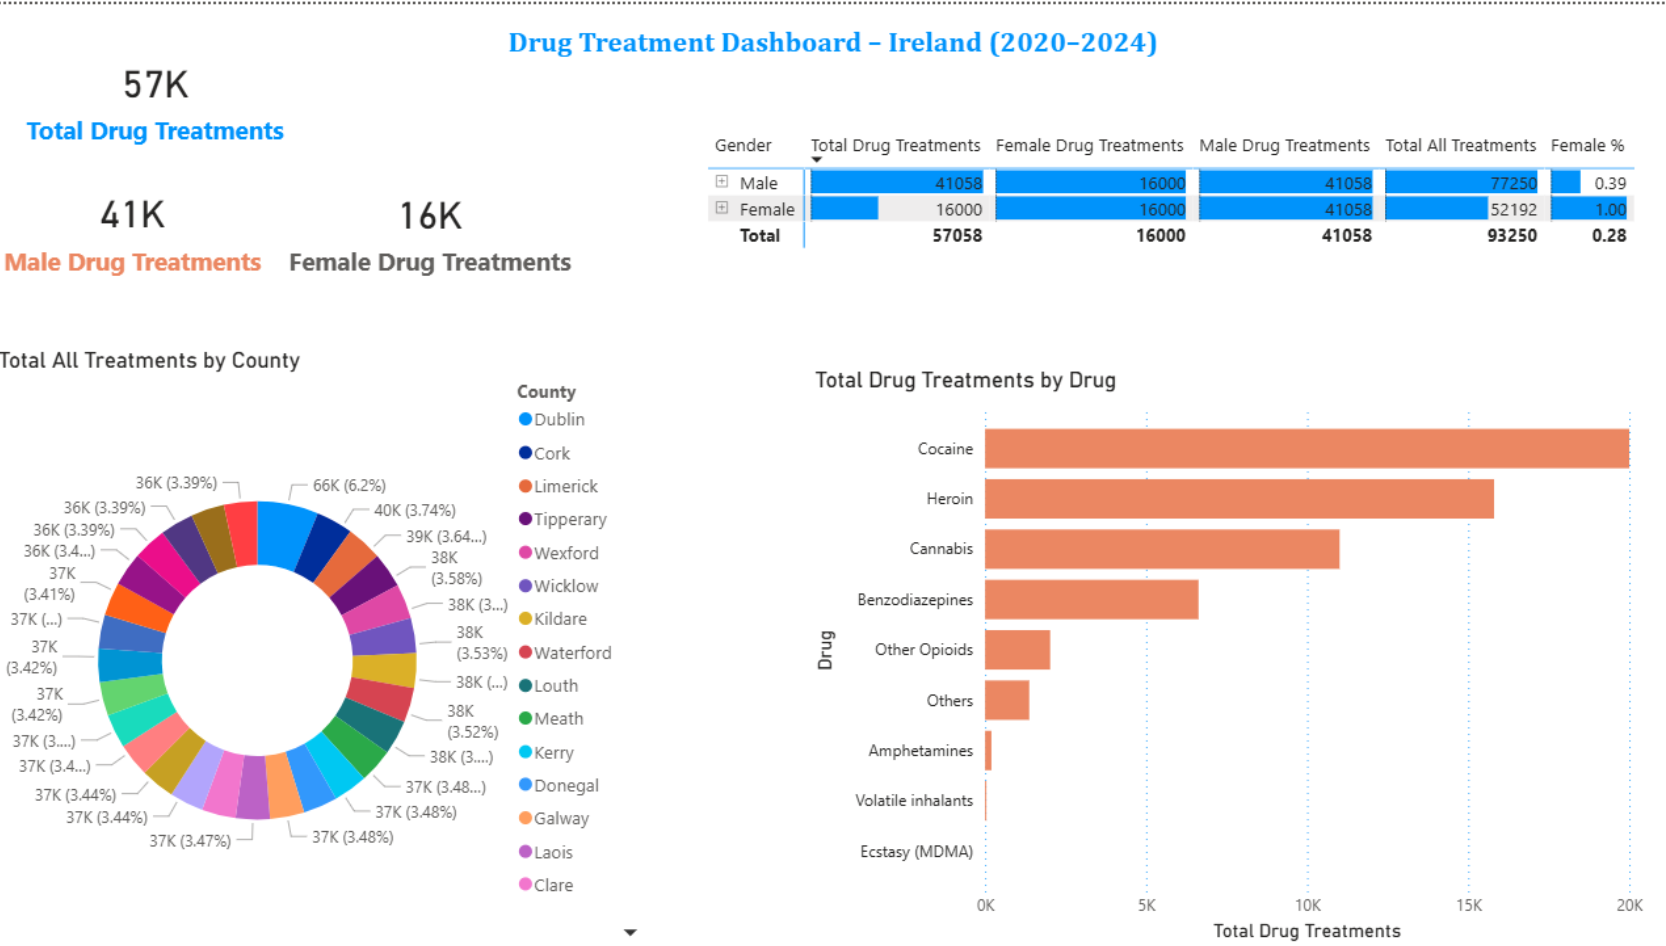

This screenshot's page, from the dashboard's own definition file:
{"tool":"powerbi","page":{"name":"Drug Treatment Dashboard","canvas":[1280,720],"ordinal":0},"visuals":[{"type":"card","fields":{"Values":["Drug Treatment.Total Drug Treatments"]},"box":[0,14.8,249.4,112.3],"z":0},{"type":"textbox","box":[388.9,11.1,543.2,43.2],"z":1000},{"type":"card","fields":{"Values":["Drug Treatment.Male Drug Treatments"]},"box":[0,123.5,214.8,93.8],"z":2000},{"type":"card","fields":{"Values":["Drug Treatment.Female Drug Treatments"]},"box":[214.8,116,238.3,109.9],"z":3000},{"type":"clusteredBarChart","fields":{"Category":["Drug Treatment.Drug"],"Y":["Drug Treatment.Total Drug Treatments"]},"box":[622.2,276.5,640.7,443.2],"z":4000},{"type":"donutChart","fields":{"Category":["Drug Treatment.County"],"Y":["Drug Treatment.Total All Treatments"]},"box":[0,260.7,575.4,459],"z":5000},{"type":"pivotTable","fields":{"Rows":["Drug Treatment.Gender","Drug Treatment.County","Drug Treatment.Year","Drug Treatment.Drug","Drug Treatment.Count"],"Values":["Drug Treatment.Total Drug Treatments","Drug Treatment.Female Drug Treatments","Drug Treatment.Male Drug Treatments","Drug Treatment.Total All Treatments","Drug Treatment.Female %"]},"box":[540.7,91.4,739.5,100],"z":6000}]}

Visuals, with their boxes in screenshot pixels (x1, y1, x2, y2), scaled from the page's 1280x720 canvas onto the 1666x946 screenshot:
card - Drug Treatment.Total Drug Treatments: [0,19,325,167]
textbox: [506,15,1213,71]
card - Drug Treatment.Male Drug Treatments: [0,162,280,286]
card - Drug Treatment.Female Drug Treatments: [280,152,590,297]
clusteredBarChart - Drug Treatment.Drug x Drug Treatment.Total Drug Treatments: [810,363,1644,945]
donutChart - Drug Treatment.County x Drug Treatment.Total All Treatments: [0,343,749,945]
pivotTable - Drug Treatment.Gender x Drug Treatment.County: [704,120,1665,251]
